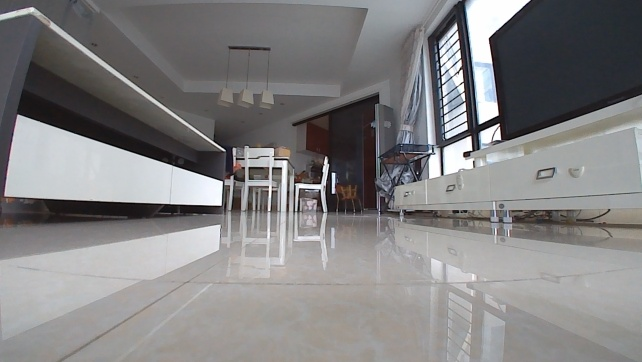TV_stand1: (390, 91, 641, 225)
dining_table: (227, 144, 333, 215)
tea_table: (0, 0, 230, 217)
wire: (578, 209, 611, 223)
